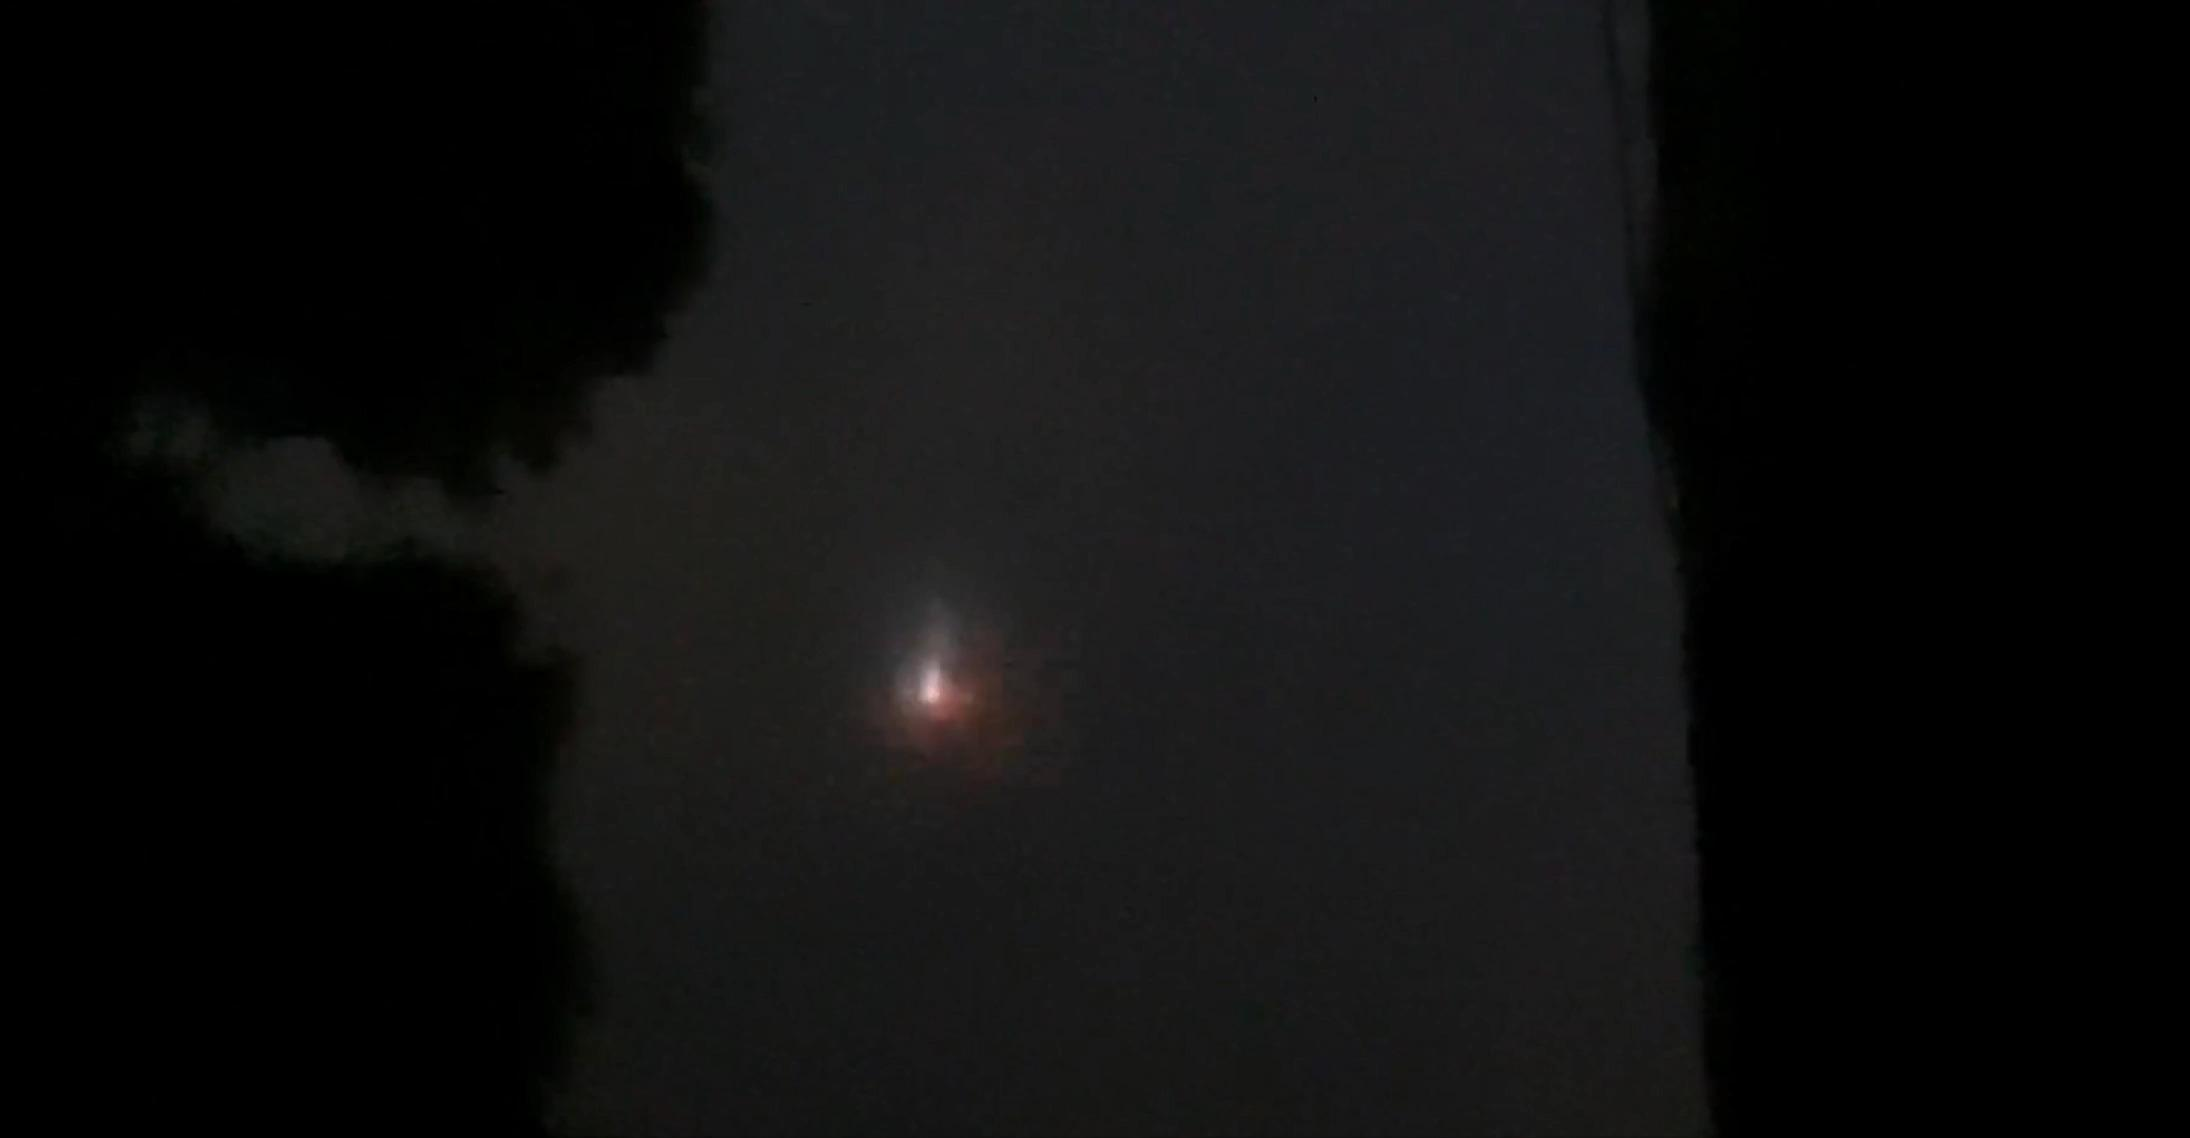Plane: (839, 569, 1033, 788)
